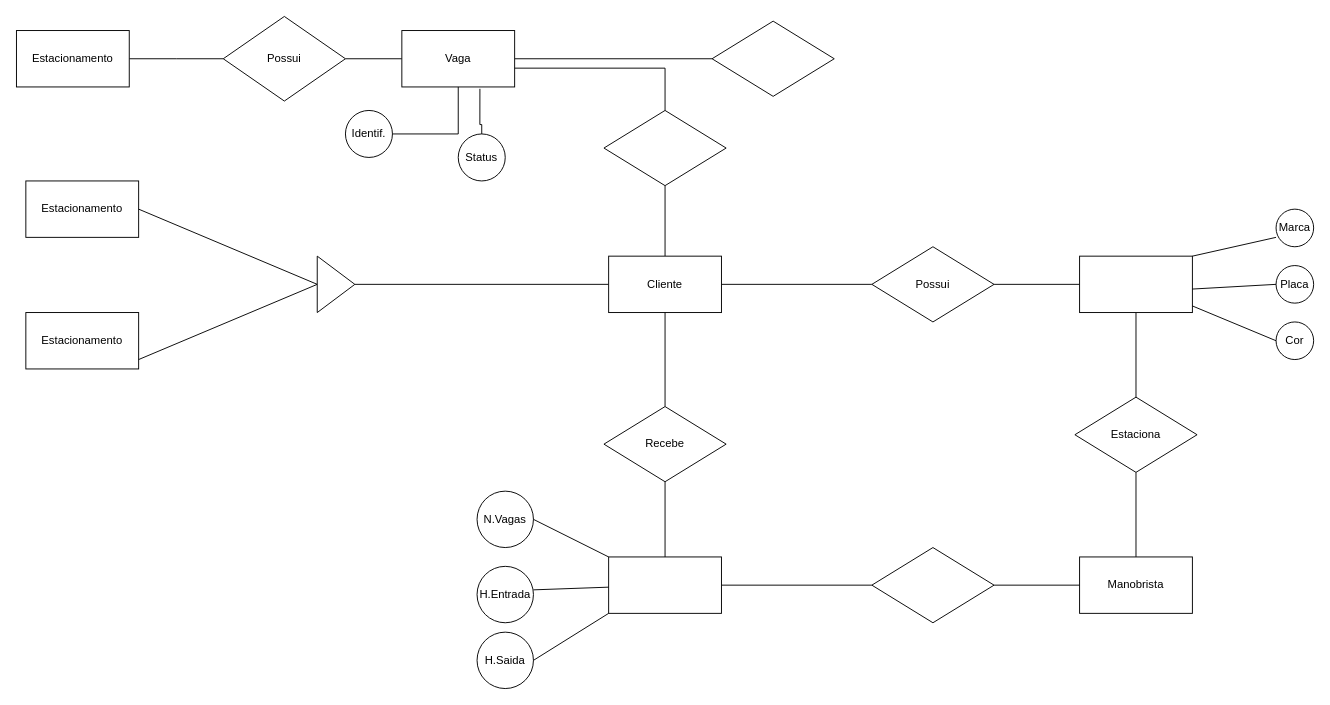
This 1330x705 diagram has some shape labels left out. Each missing label, with the centre of its shape:
"Aluga" belongs at [664,148].
"Carro" belongs at [1135,284].
"Comprovante" belongs at [664,584].
"Ocupada" belongs at [772,58].
"Registra" belongs at [932,585].
